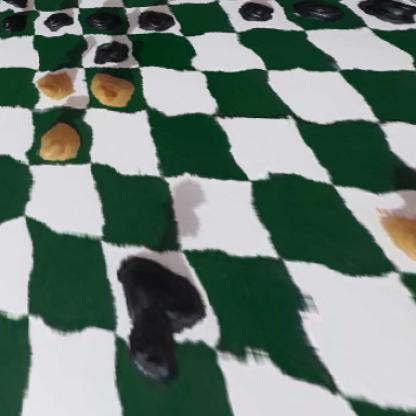black-bishop: (127, 8, 180, 35)
black-king: (161, 0, 217, 0)
black-knight: (86, 34, 133, 66)
black-pawn: (349, 0, 416, 24), (229, 0, 284, 25), (283, 0, 352, 19), (86, 10, 121, 31), (41, 10, 75, 29), (0, 12, 29, 31)
black-queen: (105, 251, 224, 406)
black-rook: (0, 0, 33, 9)
white-bishop: (86, 71, 137, 105), (37, 68, 80, 103)
white-king: (408, 283, 416, 416)
white-pawn: (357, 198, 416, 284), (34, 119, 82, 167)
